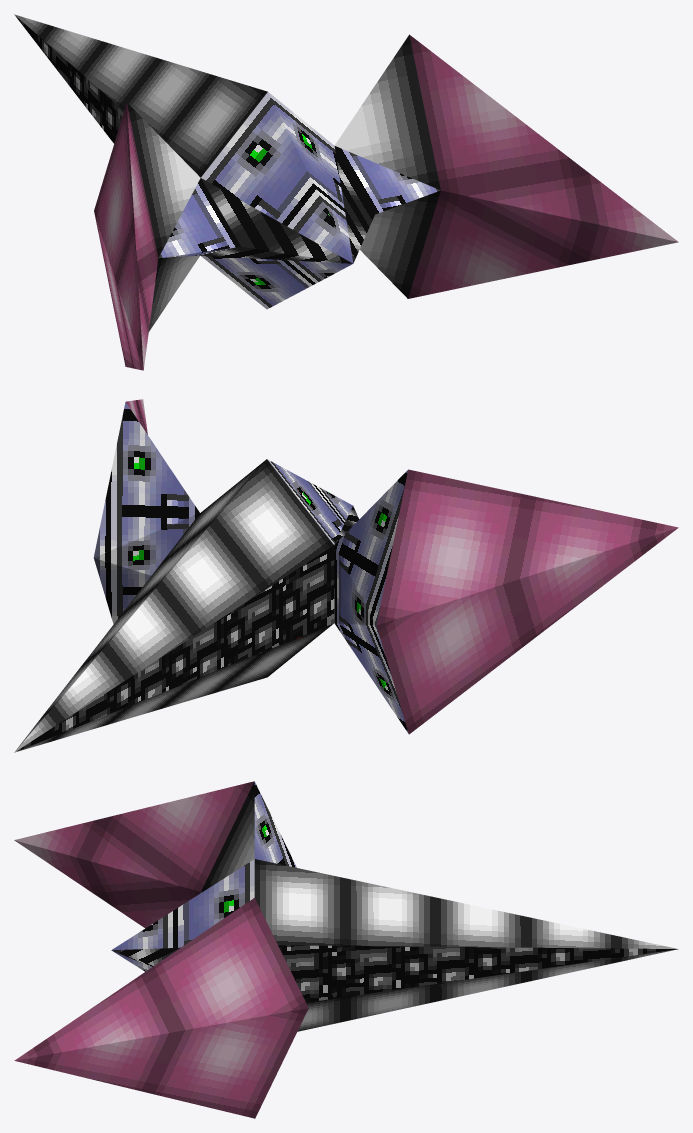
The model's file is Venom Fighter.dae.
3 renders of one model, top to bottom at view 1: azimuth 30°, elevation 25°; view 2: azimuth 150°, elevation 25°; view 3: azimuth 270°, elevation 25°, orthographic. The views are drawn at different scales.
Visible parts, largest first — view 1: pink, specmetal, eyeplate, pipe, machine; view 2: pink, specmetal, eyeplate, machine; view 3: pink, specmetal, machine, eyeplate, pipe.
Part boxes in pixels (x1,y1,x2,y2): pink: (94, 34, 678, 370); specmetal: (14, 14, 440, 331); eyeplate: (158, 92, 440, 309); pipe: (201, 146, 374, 263); machine: (14, 14, 123, 143); pink: (126, 399, 678, 734); specmetal: (14, 459, 333, 752); eyeplate: (93, 402, 408, 733); machine: (15, 545, 334, 752); pink: (14, 781, 308, 1118); specmetal: (201, 781, 677, 1031); machine: (278, 945, 678, 1002); eyeplate: (111, 782, 296, 971); pipe: (112, 947, 180, 966).
Bounding box in the file's own units: 144 × 68.31 × 185.
Materials: 5 (5 with a texture image).
